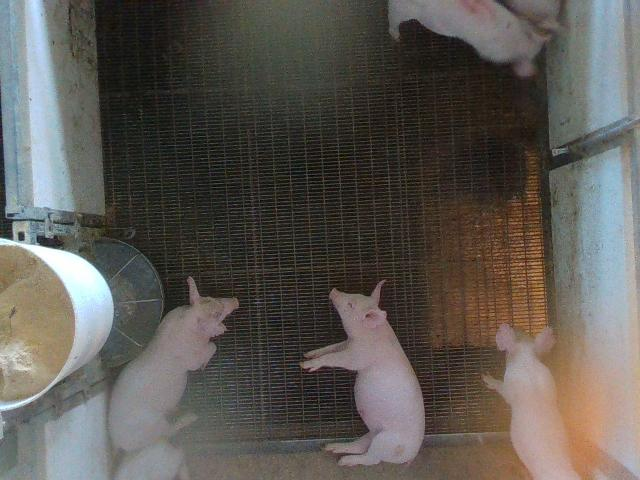pig-4: (389, 0, 544, 76)
